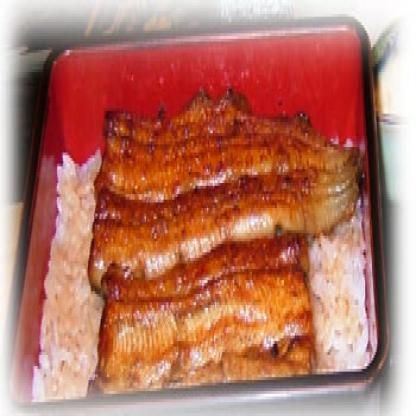eel: (99, 108, 312, 397)
